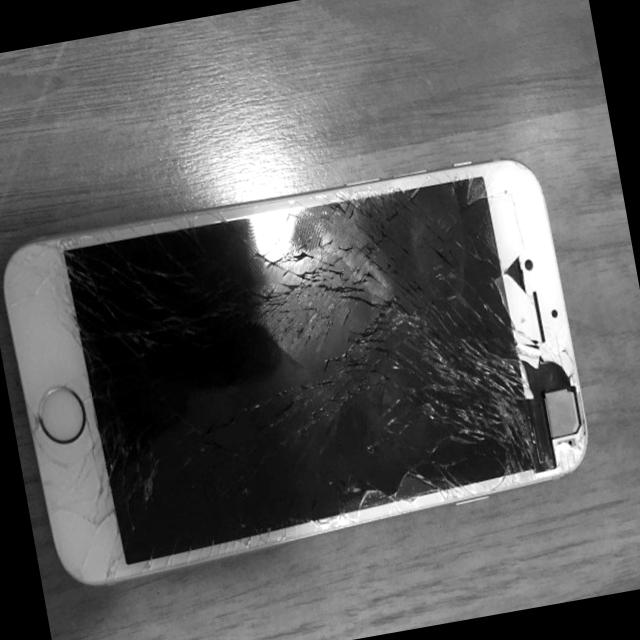Crack: (11, 154, 605, 592)
